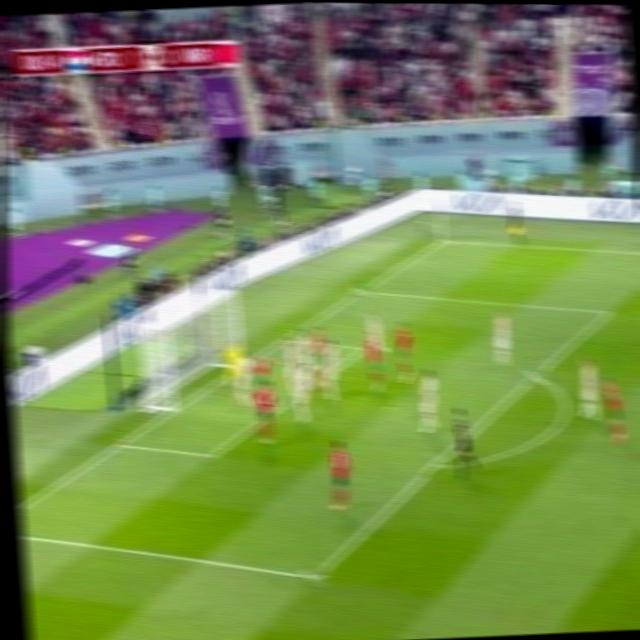bigarea_bottom_inner: (299, 561, 328, 592)
bigarea_top_inner: (597, 300, 618, 323)
bigarea_top_outter: (350, 280, 373, 299)
bottom_arc_area_intersection: (421, 455, 445, 478)
corner: (430, 233, 453, 249)
smallarea_bottom_inner: (198, 440, 225, 469)
smallarea_bottom_outter: (107, 429, 131, 456)
smallarea_top_inner: (353, 337, 374, 359)
smallarea_top_outter: (274, 327, 295, 347)
top_arc_area_intersection: (524, 364, 546, 386)
